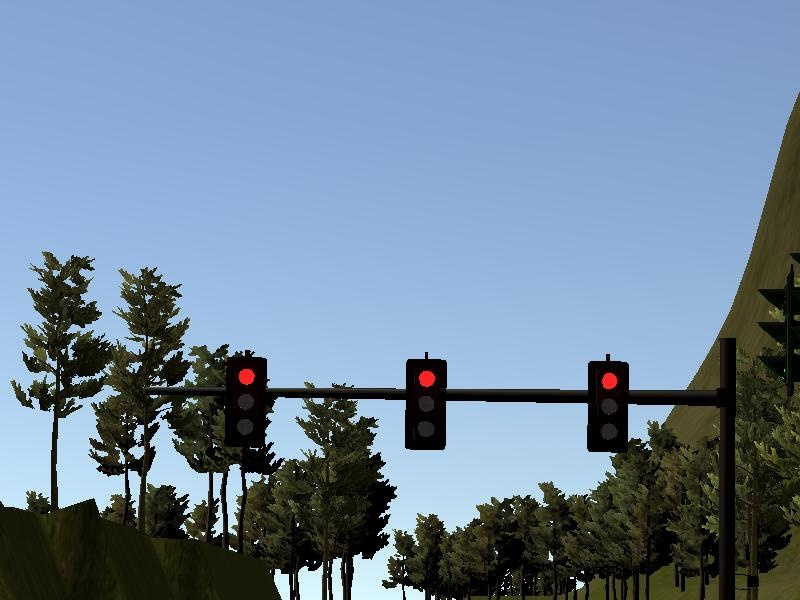red: (404, 355, 451, 457), (222, 352, 268, 450), (585, 357, 630, 457)
